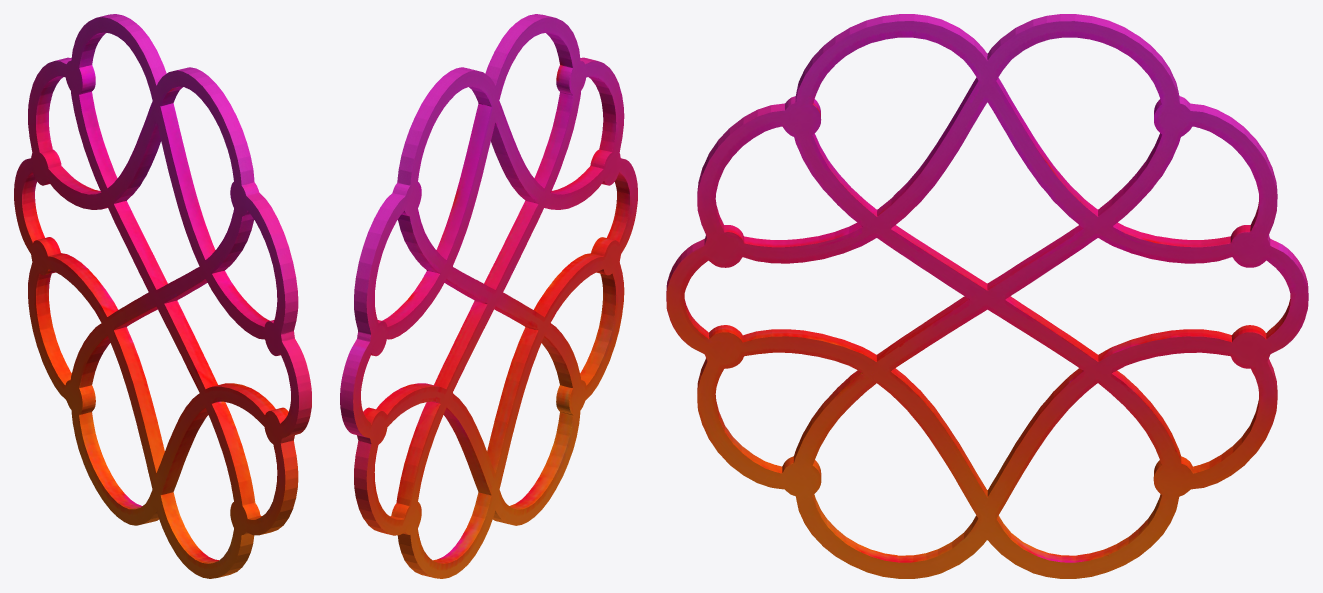
3 renders of one model, left to right at view 1: azimuth 30°, elevation 25°; view 2: azimuth 150°, elevation 25°; view 3: azimuth 270°, elevation 25°, orthographic. The views are drawn at different scales.
Visible parts, largest first — view 1: tripo_node_8a2fd0d1-c01a-47a6-9b2b-e641fc9f0c3c; view 2: tripo_node_8a2fd0d1-c01a-47a6-9b2b-e641fc9f0c3c; view 3: tripo_node_8a2fd0d1-c01a-47a6-9b2b-e641fc9f0c3c.
Boxes of the visible parts, left/top/right/bottom form: tripo_node_8a2fd0d1-c01a-47a6-9b2b-e641fc9f0c3c: left=14, top=14, right=311, bottom=578; tripo_node_8a2fd0d1-c01a-47a6-9b2b-e641fc9f0c3c: left=340, top=14, right=637, bottom=578; tripo_node_8a2fd0d1-c01a-47a6-9b2b-e641fc9f0c3c: left=666, top=14, right=1308, bottom=578.
Size of the model in its own units: 0.0273 by 0.9588 by 1.
1 material, 1 textured.
